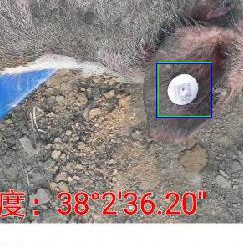text: (158, 62, 211, 116)
